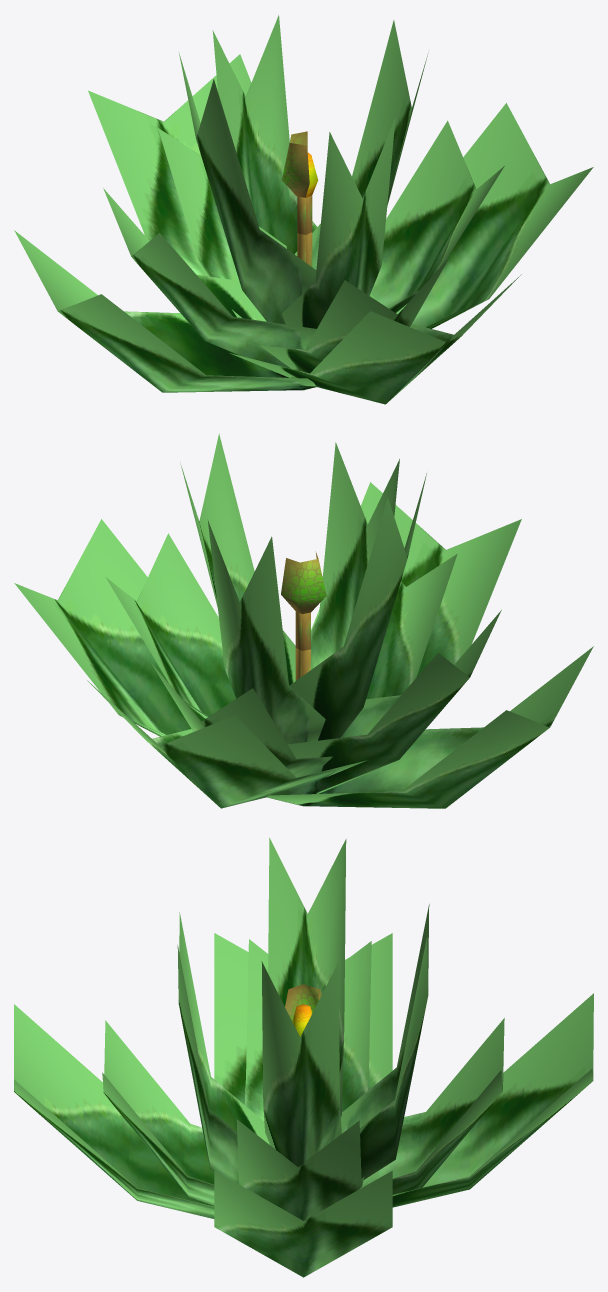
The model's file is LVL_RIV_FLOWERPLANT.fbx.
3 views of the same model, one above another, from view 1: azimuth 30°, elevation 25°; view 2: azimuth 150°, elevation 25°; view 3: azimuth 270°, elevation 25° (orthographic).
Visible parts, largest first — view 1: LVL_RIV_FLOWERPLANT; view 2: LVL_RIV_FLOWERPLANT; view 3: LVL_RIV_FLOWERPLANT.
Boxes of the visible parts, x1,y1,x2,y2 form: LVL_RIV_FLOWERPLANT: (14, 15, 593, 404); LVL_RIV_FLOWERPLANT: (14, 433, 593, 808); LVL_RIV_FLOWERPLANT: (14, 837, 593, 1277).
Size of the model in its own units: 10049 by 6832 by 10062.
4 materials, 4 textured.
